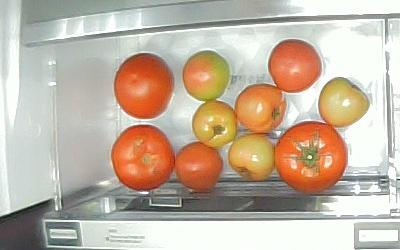tomato: (274, 122, 348, 194), (112, 124, 175, 191), (114, 52, 174, 119), (268, 39, 322, 93), (318, 77, 371, 128), (234, 83, 286, 133), (183, 51, 231, 101), (175, 141, 223, 190), (228, 133, 274, 180), (193, 101, 238, 147)
